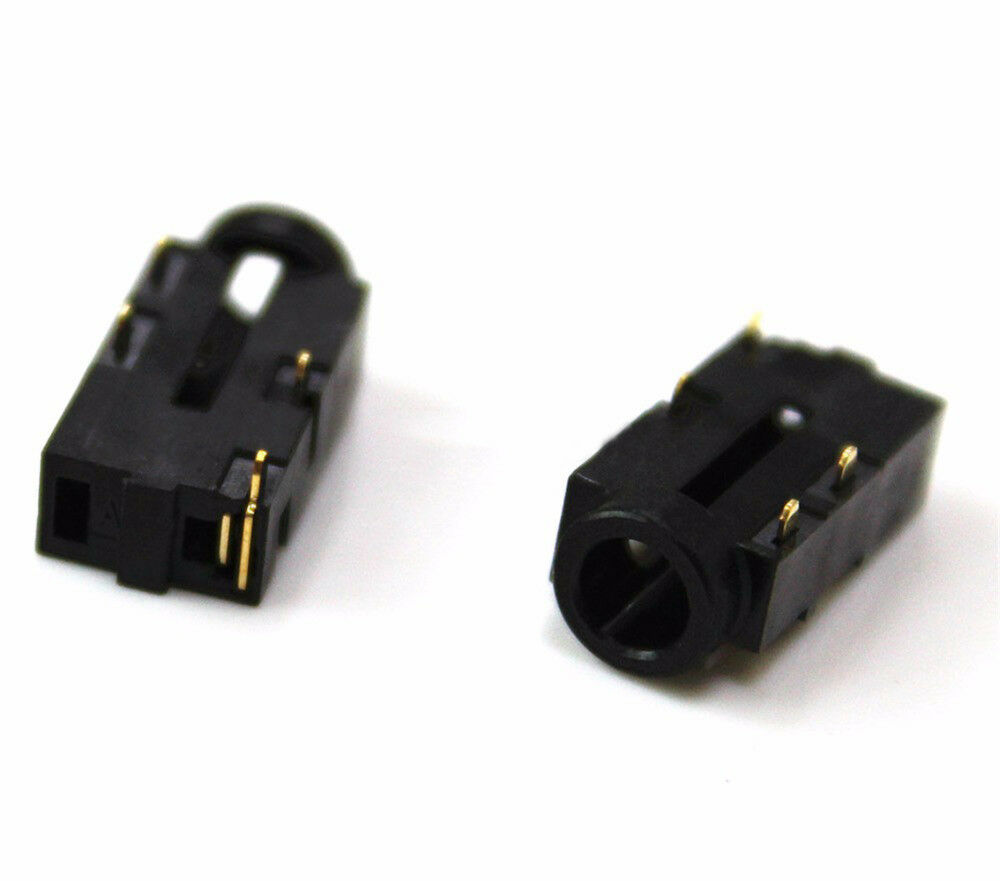aud: (546, 355, 944, 722)
